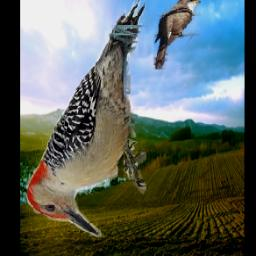Cuckoo: (153, 0, 201, 71)
Woodpecker: (27, 0, 147, 239)
